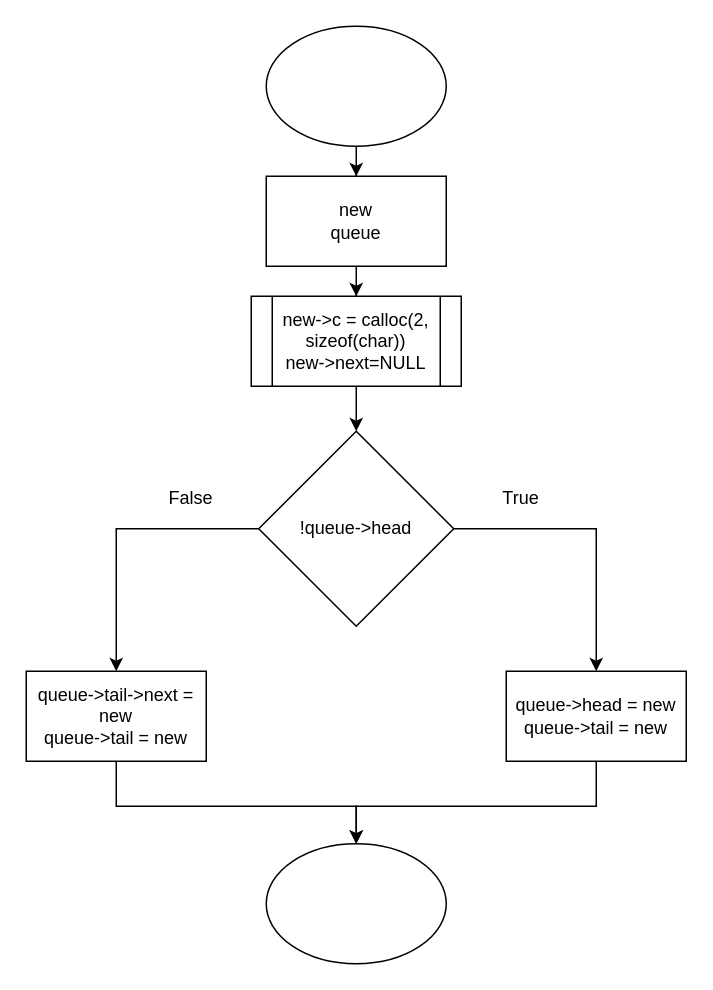
This 713x990 diagram has some shape labels left out. Here are the shapes that lost their labels. From the top down, the box of each, then its label:
(265, 25, 446, 146): queue_put
(265, 842, 446, 964): end
